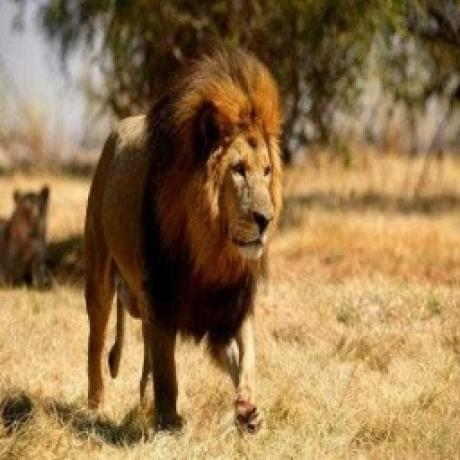Lion: (82, 45, 282, 438)
